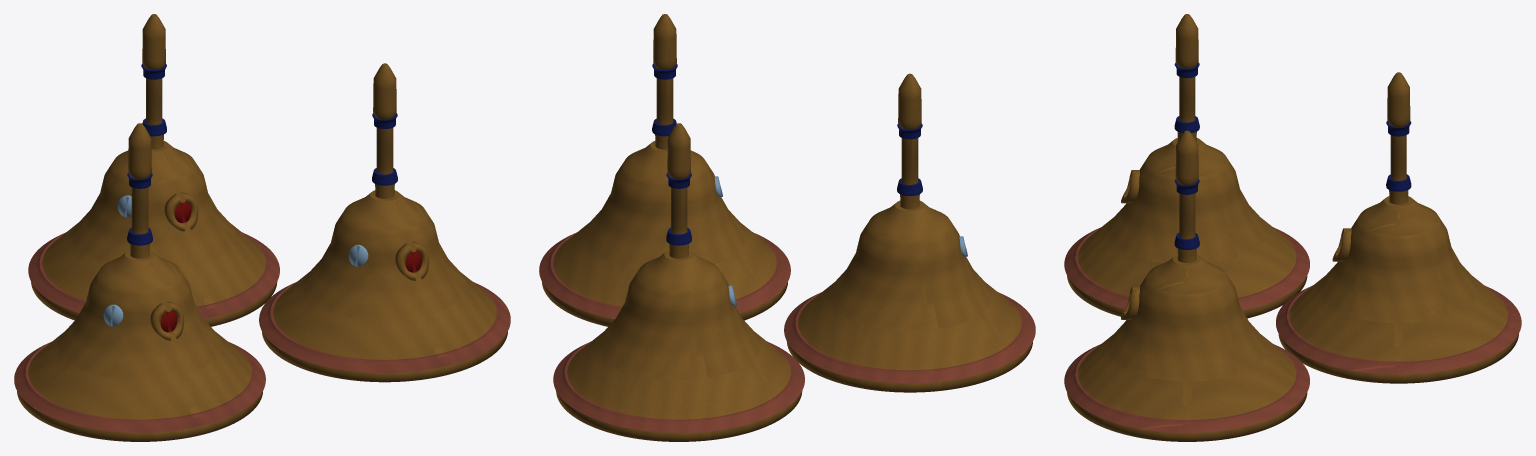
3 views of the same model, side by side, from view 1: azimuth 30°, elevation 25°; view 2: azimuth 150°, elevation 25°; view 3: azimuth 270°, elevation 25° (orthographic). The views are drawn at different scales.
Visible parts, largest first — view 1: BR03 unit 0 continuous flared bell, BR03 unit 2 continuous flared bell, BR03 unit 1 continuous flared bell, BR03 unit 0 rose hem trim, BR03 unit 2 rose hem trim, BR03 unit 1 rose hem trim, BR03 unit 0 banded handle, BR03 unit 2 banded handle, BR03 unit 1 banded handle, BR03 unit 1 front gold rim, BR03 unit 0 front gold rim, BR03 unit 2 front gold rim; view 2: BR03 unit 1 continuous flared bell, BR03 unit 0 continuous flared bell, BR03 unit 2 continuous flared bell, BR03 unit 0 rose hem trim, BR03 unit 1 rose hem trim, BR03 unit 2 rose hem trim, BR03 unit 0 banded handle, BR03 unit 1 banded handle, BR03 unit 2 banded handle; view 3: BR03 unit 1 continuous flared bell, BR03 unit 2 continuous flared bell, BR03 unit 0 continuous flared bell, BR03 unit 1 rose hem trim, BR03 unit 2 rose hem trim, BR03 unit 0 rose hem trim, BR03 unit 1 banded handle, BR03 unit 2 banded handle, BR03 unit 0 banded handle.
Boxes of the visible parts, x1,y1,x2,y2 form: BR03 unit 0 continuous flared bell: (17,250,262,441); BR03 unit 2 continuous flared bell: (262,190,507,382); BR03 unit 1 continuous flared bell: (31,141,277,326); BR03 unit 0 rose hem trim: (14,341,265,432); BR03 unit 2 rose hem trim: (259,282,510,372); BR03 unit 1 rose hem trim: (28,232,279,319); BR03 unit 0 banded handle: (128,123,151,258); BR03 unit 2 banded handle: (373,63,396,198); BR03 unit 1 banded handle: (142,14,165,149); BR03 unit 1 front gold rim: (164,192,198,231); BR03 unit 0 front gold rim: (150,301,184,340); BR03 unit 2 front gold rim: (395,242,428,280); BR03 unit 1 continuous flared bell: (556,250,802,441); BR03 unit 0 continuous flared bell: (787,200,1032,392); BR03 unit 2 continuous flared bell: (542,141,787,326); BR03 unit 0 rose hem trim: (784,292,1035,383); BR03 unit 1 rose hem trim: (553,341,804,432); BR03 unit 2 rose hem trim: (539,232,790,318); BR03 unit 0 banded handle: (898,73,921,209); BR03 unit 1 banded handle: (667,123,690,258); BR03 unit 2 banded handle: (653,14,676,149); BR03 unit 1 continuous flared bell: (1278,196,1518,383); BR03 unit 2 continuous flared bell: (1067,254,1307,441); BR03 unit 0 continuous flared bell: (1067,137,1307,318); BR03 unit 1 rose hem trim: (1276,285,1521,374); BR03 unit 2 rose hem trim: (1064,344,1309,432); BR03 unit 0 rose hem trim: (1064,227,1309,310); BR03 unit 1 banded handle: (1387,72,1410,204); BR03 unit 2 banded handle: (1175,130,1198,262); BR03 unit 0 banded handle: (1175,14,1198,141).
Size of the model in its own units: 2.34 by 1.31 by 2.05.
Materials: 5 (5 with a texture image).
